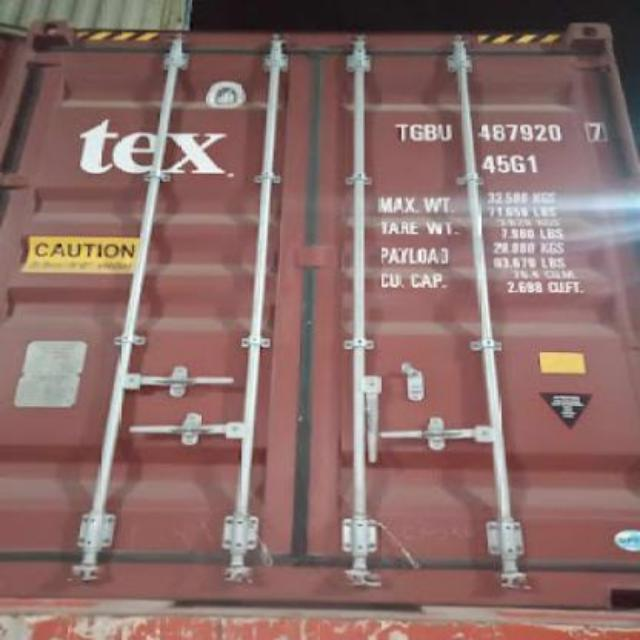0: (548, 120, 566, 144)
2: (532, 120, 548, 144)
4: (472, 118, 492, 144)
7: (580, 118, 612, 144), (504, 118, 518, 146)
8: (492, 112, 504, 148)
9: (518, 120, 532, 142)
B: (424, 116, 438, 146)
G: (408, 121, 422, 141)
T: (394, 116, 410, 146)
U: (438, 120, 454, 142)
